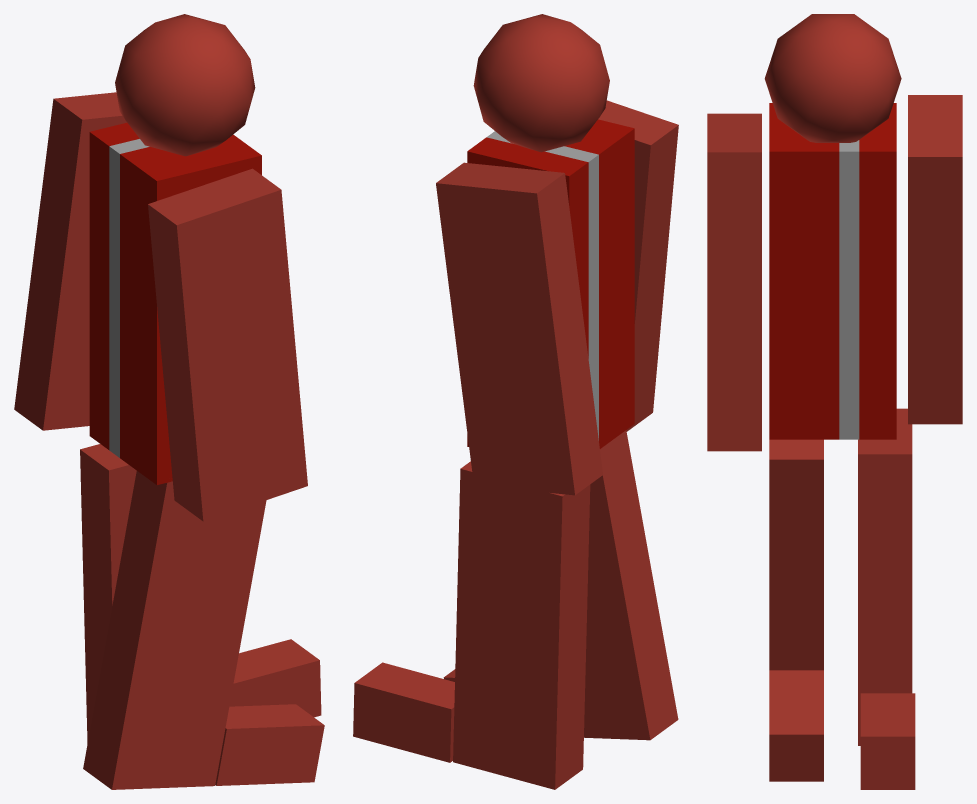
Rendered from player_000073.obj.
The picture shows the model from 3 angles, left to right: view 1: azimuth 30°, elevation 25°; view 2: azimuth 150°, elevation 25°; view 3: azimuth 270°, elevation 25°; orthographic projection. The views are drawn at different scales.
Visible parts, largest first — view 1: Cube.013, Cube.010, Cube.007, Cube.012, Icosphere.001, Cube.008, Cube.011, Cube.009; view 2: Cube.012, Cube.008, Cube.010, Cube.007, Icosphere.001, Cube.013, Cube.009; view 3: Cube.007, Cube.013, Cube.012, Cube.008, Icosphere.001, Cube.010, Cube.011, Cube.009.
Part boxes in pixels (x1,y1,x2,y2): Cube.013: [148, 168, 307, 521]; Cube.010: [83, 471, 266, 789]; Cube.007: [89, 122, 261, 484]; Cube.012: [14, 92, 126, 430]; Icosphere.001: [115, 14, 255, 156]; Cube.008: [80, 444, 136, 743]; Cube.011: [215, 704, 324, 785]; Cube.009: [229, 639, 321, 717]; Cube.012: [436, 162, 602, 495]; Cube.008: [453, 461, 590, 789]; Cube.010: [584, 430, 678, 740]; Cube.007: [467, 119, 634, 448]; Icosphere.001: [473, 14, 609, 152]; Cube.013: [598, 100, 678, 431]; Cube.009: [353, 662, 454, 762]; Cube.007: [769, 103, 896, 439]; Cube.013: [707, 113, 761, 451]; Cube.012: [908, 95, 962, 424]; Cube.008: [858, 408, 912, 745]; Icosphere.001: [764, 14, 901, 142]; Cube.010: [769, 439, 823, 670]; Cube.011: [769, 670, 823, 781]; Cube.009: [860, 693, 915, 789].
Size of the model in its own units: 1.01 by 2.85 by 0.9137.
